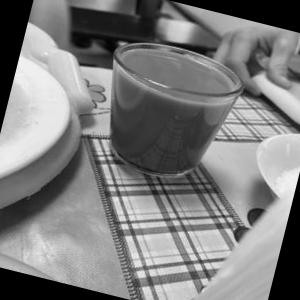coffee: (78, 26, 246, 204)
